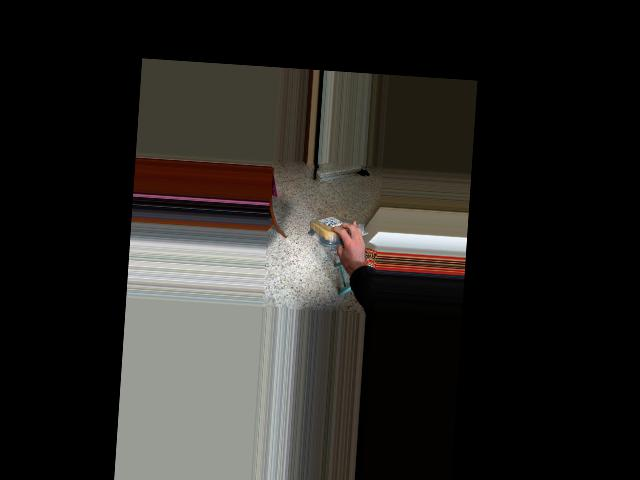cheese: (307, 215, 361, 244)
